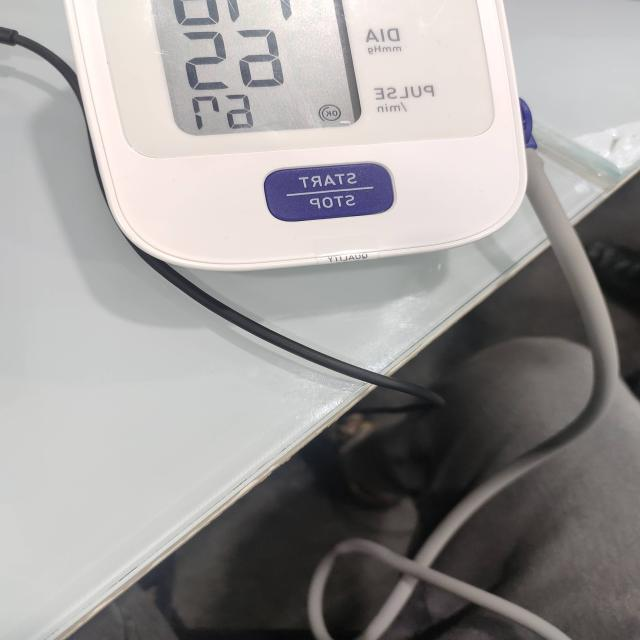bp: (30, 0, 529, 273)
